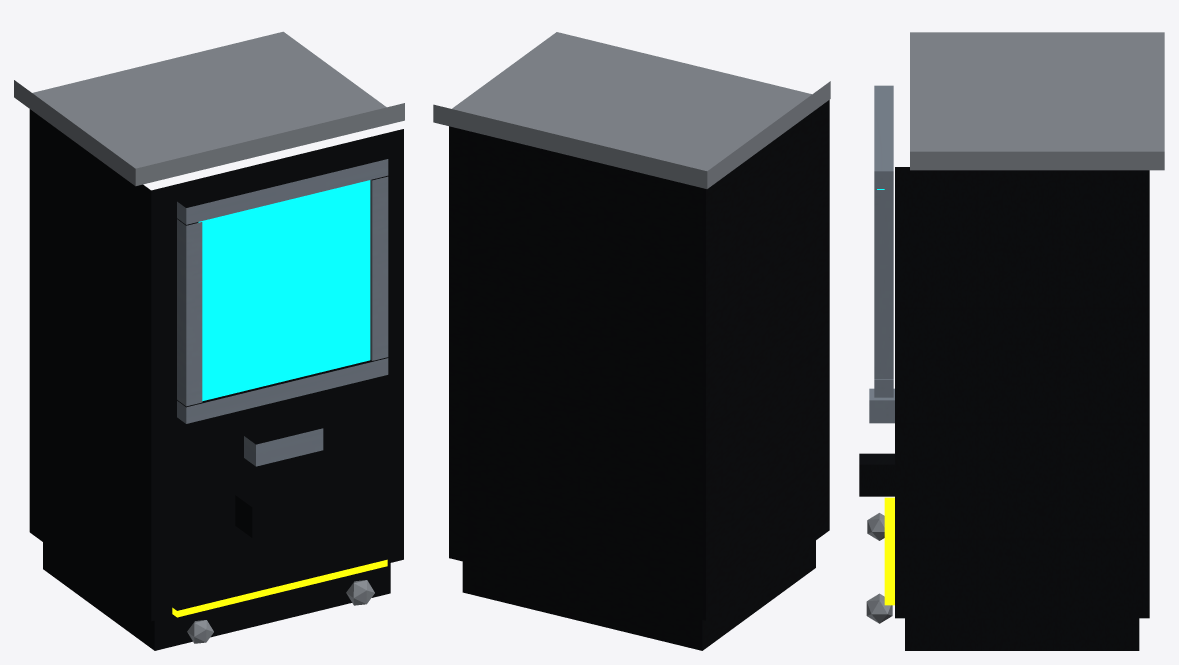
The model's file is v4_river_kiosk.glb.
The picture shows the model from 3 angles, left to right: view 1: azimuth 30°, elevation 25°; view 2: azimuth 150°, elevation 25°; view 3: azimuth 270°, elevation 25°; orthographic projection. The views are drawn at different scales.
Visible parts, largest first — view 1: Kiosk_Body, Kiosk_Top, Kiosk_Screen, Kiosk_Bezel, Ticket_Mouth, Card_Slot, River_LED, Pebbles; view 2: Kiosk_Body, Kiosk_Top; view 3: Kiosk_Body, Kiosk_Top, Kiosk_Bezel, Ticket_Mouth, River_LED, Pebbles, Card_Slot.
Part boxes in pixels (<box>): Kiosk_Body: <box>29,109,403,650</box>; Kiosk_Top: <box>14,31,404,186</box>; Kiosk_Screen: <box>198,180,370,401</box>; Kiosk_Bezel: <box>177,159,388,423</box>; Ticket_Mouth: <box>235,487,336,538</box>; Card_Slot: <box>244,428,323,466</box>; River_LED: <box>172,559,387,617</box>; Pebbles: <box>187,580,374,643</box>; Kiosk_Body: <box>449,100,829,650</box>; Kiosk_Top: <box>433,32,830,188</box>; Kiosk_Body: <box>895,167,1149,650</box>; Kiosk_Top: <box>910,32,1164,170</box>; Kiosk_Bezel: <box>874,85,893,397</box>; Ticket_Mouth: <box>859,453,894,496</box>; River_LED: <box>884,497,894,605</box>; Pebbles: <box>866,513,892,623</box>; Card_Slot: <box>869,388,894,423</box>.
Size of what is drawn, in the model's own units: 0.64 by 1.1 by 0.6.
Materials: 5 (2 with a texture image).
